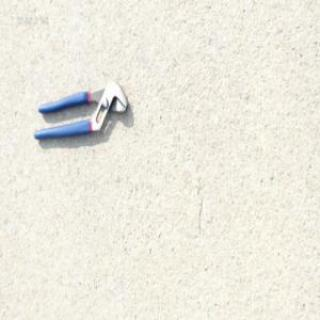Pliertrack_idkeyframe: (31, 78, 128, 142)
